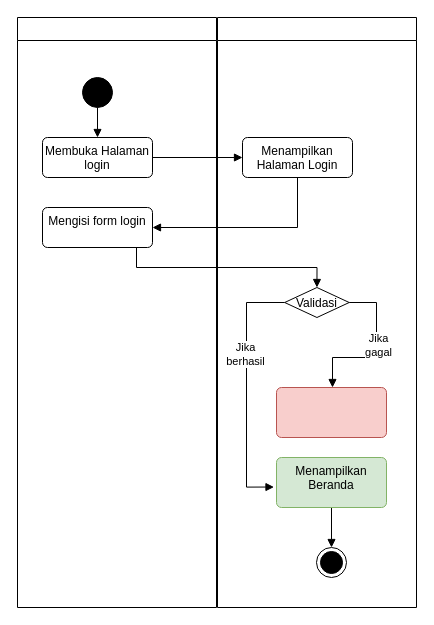
Some shapes in this 434 by 625 pixel diagram are drawn without their labels. Each missing label, with the box of its shape:
Mahasiswa: (16, 16, 216, 608)
Menampilkan pesan kesalahan input username/password: (276, 386, 386, 438)
Sistem: (216, 16, 416, 608)
